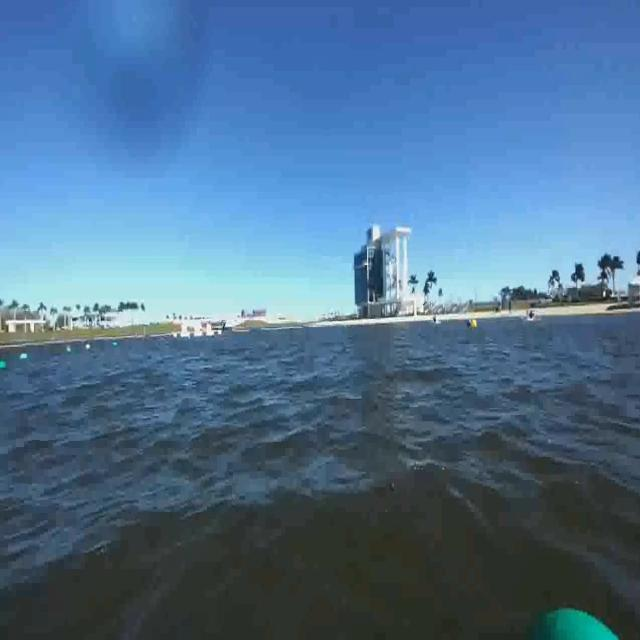green-buoy: (504, 594, 640, 640), (0, 359, 7, 369)
yellow-buoy: (470, 318, 476, 330)
